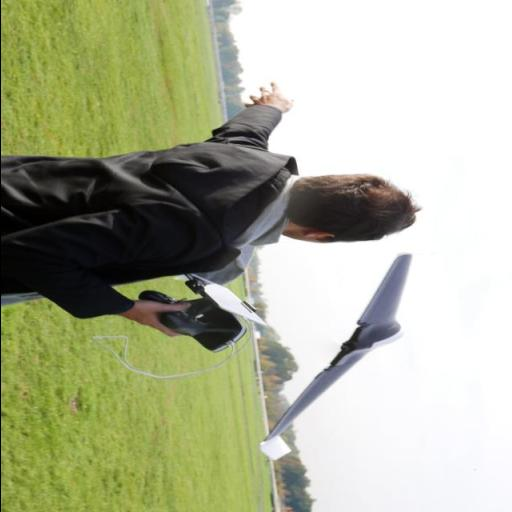uav: (260, 252, 420, 458)
